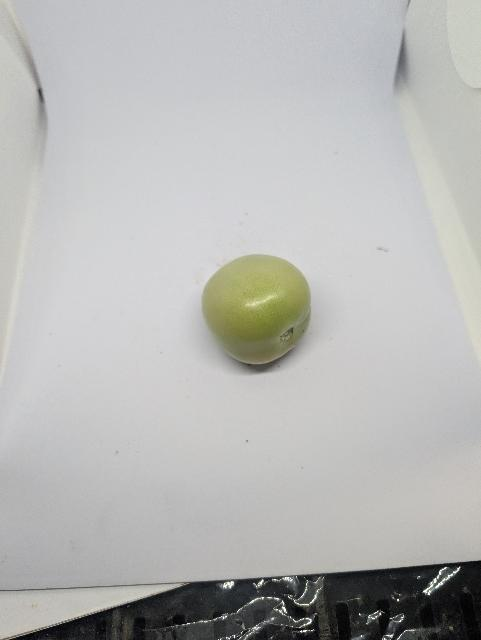green: (200, 252, 316, 366)
